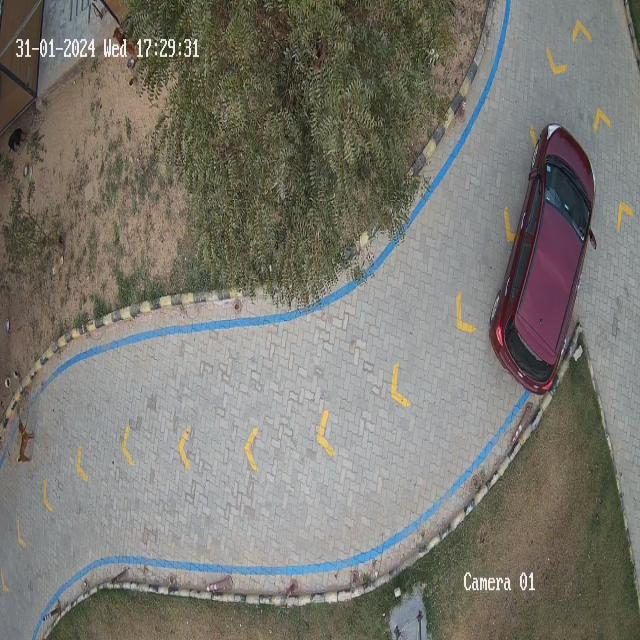car: (490, 124, 596, 394)
